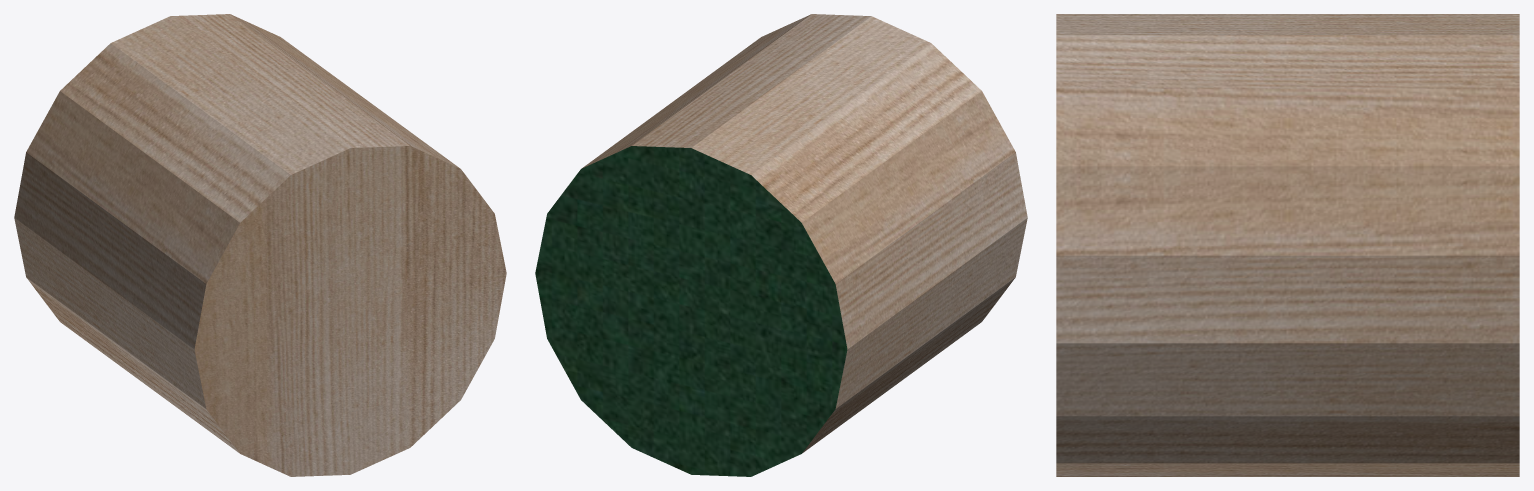
3 views of the same model, side by side, from view 1: azimuth 30°, elevation 25°; view 2: azimuth 150°, elevation 25°; view 3: azimuth 270°, elevation 25° (orthographic). The views are drawn at different scales.
Visible parts, largest first — view 1: Cube_Cube_None_QuartoPieces.png; view 2: Cube_Cube_None_QuartoPieces.png; view 3: Cube_Cube_None_QuartoPieces.png.
Boxes of the visible parts, <box> form: Cube_Cube_None_QuartoPieces.png: <box>14,14,506,476</box>; Cube_Cube_None_QuartoPieces.png: <box>535,14,1027,476</box>; Cube_Cube_None_QuartoPieces.png: <box>1056,14,1519,476</box>.
Size of the model in its own units: 2 by 2 by 2.
